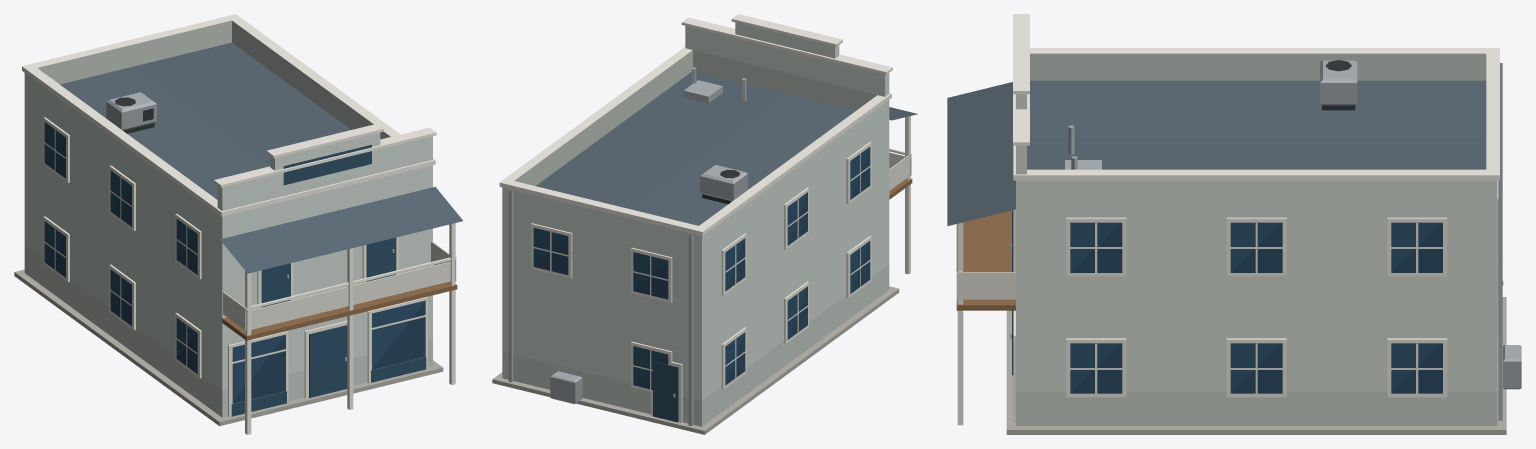
File: shop_8x13_2f.glb
3 renders of one model, left to right at view 1: azimuth 30°, elevation 25°; view 2: azimuth 150°, elevation 25°; view 3: azimuth 270°, elevation 25°, orthographic. The views are drawn at different scales.
Parts seen in each view (by area): view 1: block; view 2: block; view 3: block.
Boxes of the visible parts, x1=… form: block: x1=14, y1=14, x2=462, y2=434; block: x1=492, y1=14, x2=917, y2=434; block: x1=947, y1=14, x2=1521, y2=434.
Bounding box in the file's own units: 8.5 × 9.25 × 15.5.
